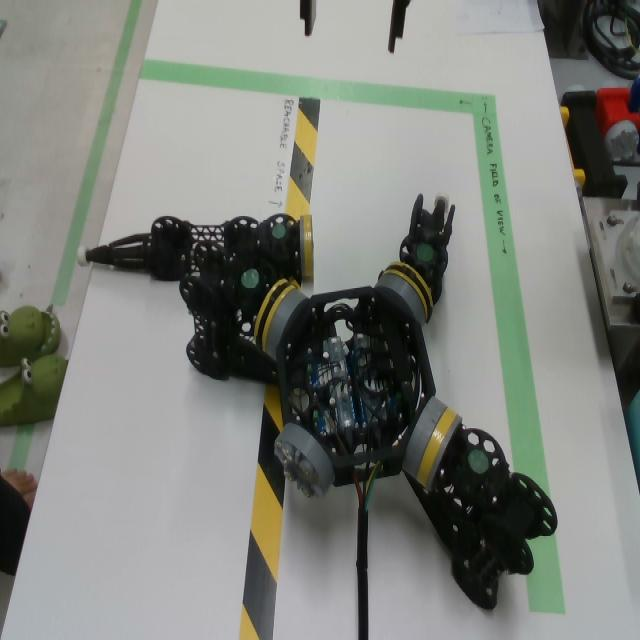body: (276, 287, 437, 488)
body_connector: (274, 423, 336, 499), (402, 397, 447, 479), (264, 289, 309, 360), (374, 275, 426, 325)
leg: (404, 408, 559, 612), (179, 243, 295, 385), (76, 213, 313, 281), (375, 191, 455, 325)
leg_connector: (416, 409, 462, 489), (380, 261, 433, 323), (254, 279, 293, 352), (299, 215, 314, 277)
leg_marker: (468, 451, 489, 475), (241, 269, 259, 288), (417, 245, 433, 261), (272, 224, 286, 240)
